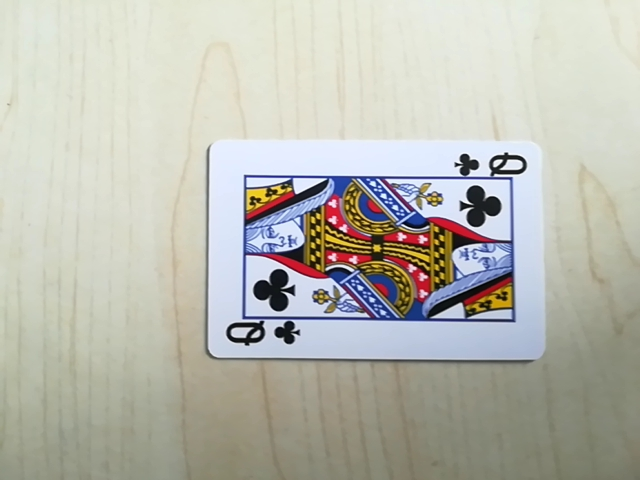mh q: (217, 317, 301, 355), (456, 149, 532, 181)
